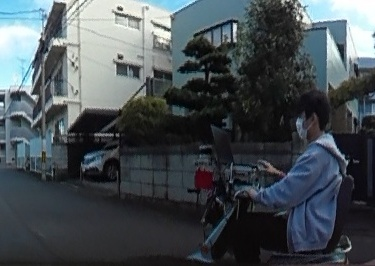person: (220, 91, 346, 266)
